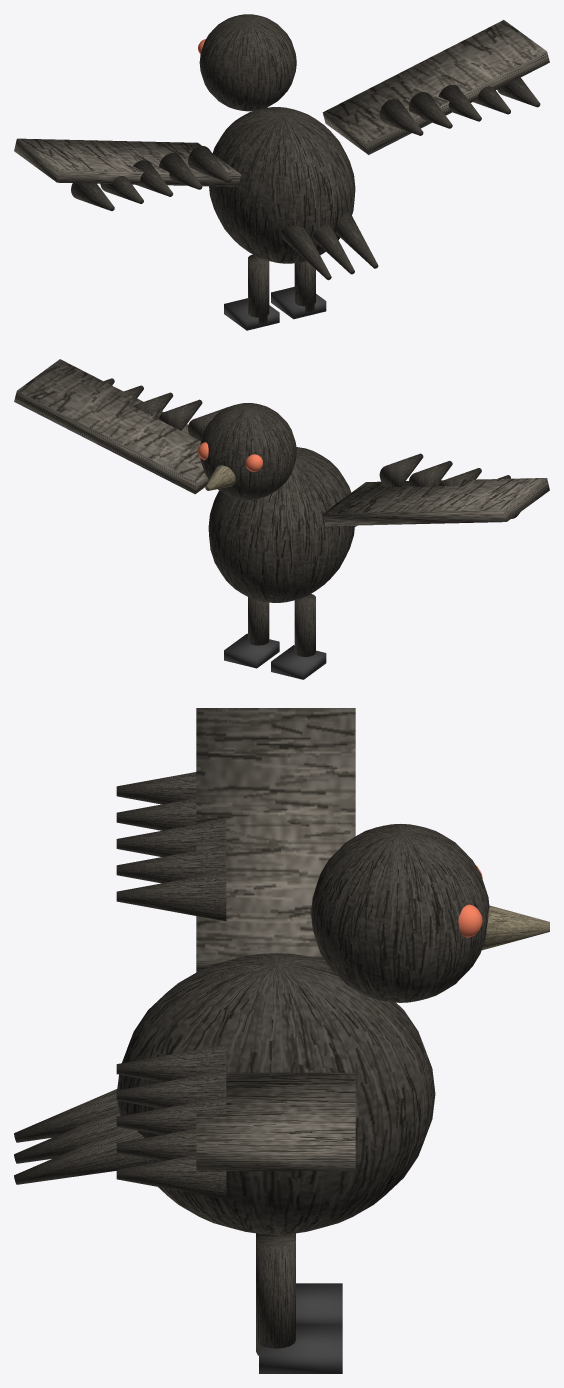
File: impundulu.glb
3 views of the same model, one above another, from view 1: azimuth 30°, elevation 25°; view 2: azimuth 150°, elevation 25°; view 3: azimuth 270°, elevation 25° (orthographic). The views are drawn at different scales.
Visible parts, largest first — view 1: Body, Wing.001, Head, Wing, Leg, TailFeather, Leg.001, TailFeather.002, Foot, Foot.001, Feather.005, Feather (+9 smaller); view 2: Body, Wing.001, Wing, Head, Leg, Foot.001, Foot, Leg.001, Feather, Feather.006, Feather.001, Beak (+2 smaller); view 3: Body, Wing, Head, Wing.001, Leg.001, Feather, Foot.001, TailFeather.002, Feather.009, Feather.001, Feather.005, Feather.006 (+9 smaller).
Boxes of the visible parts, x1,y1,x2,y2 form: Body: (209, 107, 355, 263); Wing.001: (322, 20, 549, 154); Head: (199, 14, 296, 111); Wing: (14, 138, 241, 186); Leg: (248, 254, 269, 323); TailFeather: (280, 225, 331, 280); Leg.001: (294, 261, 315, 312); TailFeather.002: (335, 211, 378, 268); Foot: (224, 298, 279, 330); Foot.001: (271, 286, 326, 319); Feather.005: (379, 99, 423, 135); Feather: (188, 146, 231, 182); Body: (208, 447, 354, 602); Wing.001: (14, 359, 208, 494); Wing: (323, 478, 549, 526); Head: (200, 403, 296, 499); Leg: (294, 594, 315, 656); Foot.001: (224, 633, 279, 668); Foot: (271, 645, 326, 679); Leg.001: (248, 597, 269, 645); Feather: (379, 453, 423, 487); Feather.006: (159, 399, 202, 430); Feather.001: (409, 461, 452, 486); Beak: (205, 465, 235, 490); Body: (117, 953, 435, 1234); Wing: (196, 708, 355, 972); Head: (311, 824, 489, 1002); Wing.001: (196, 1072, 355, 1170); Leg.001: (256, 1234, 295, 1355); Feather: (116, 872, 226, 921); Foot.001: (259, 1325, 342, 1373); TailFeather.002: (14, 1128, 153, 1184); Feather.009: (116, 1155, 226, 1198); Feather.001: (116, 845, 226, 883); Feather.005: (116, 1044, 226, 1082); Feather.006: (116, 1070, 226, 1108).
Bounding box in the file's own units: 1.88 × 1 × 0.9601.
6 materials, 4 textured.
